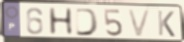5: (103, 8, 124, 38)
6: (25, 7, 45, 36)
D: (74, 7, 100, 37)
H: (47, 7, 75, 37)
K: (156, 10, 177, 39)
V: (126, 8, 153, 38)
